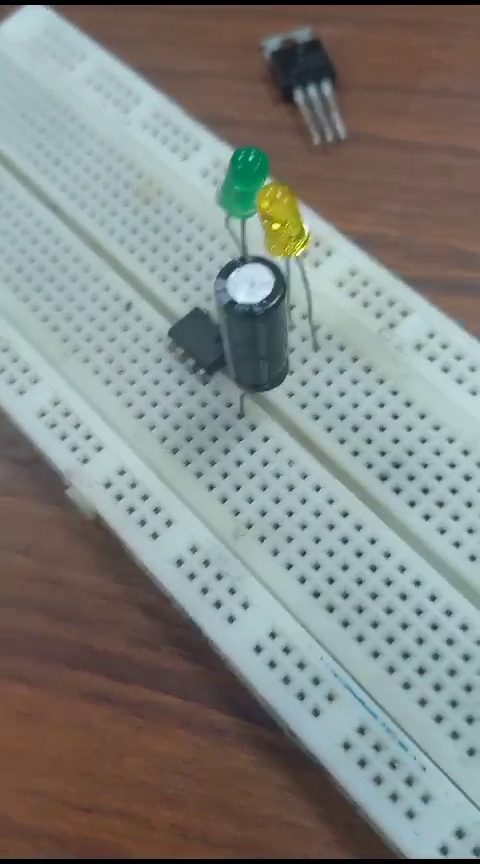IC: (154, 305, 232, 372)
LED: (251, 185, 326, 264), (220, 137, 268, 232)
capacitor: (212, 257, 296, 411)
voltage regulator: (247, 32, 367, 144)
